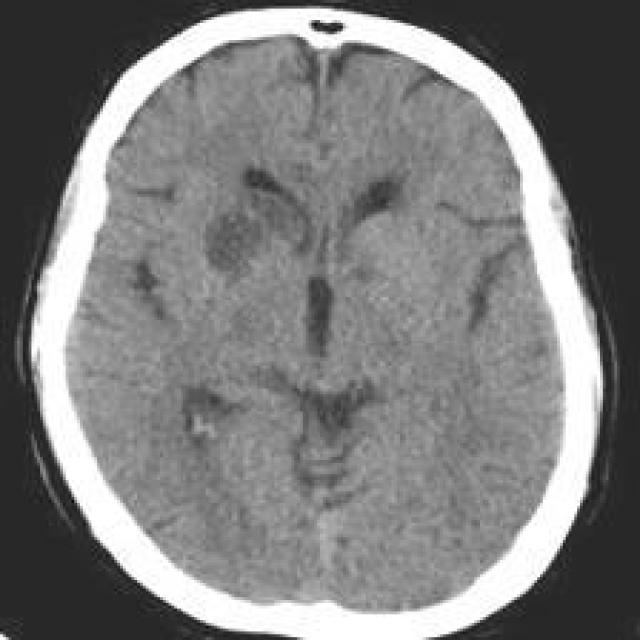no_tumor: (25, 5, 618, 640)
